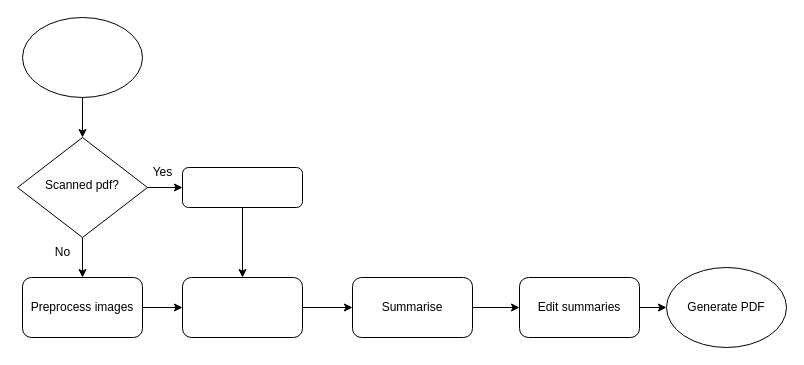
This 804x365 diagram has some shape labels left out. The centre of each missing label's shape, as x and y in pixels:
"Convert to images" belongs at (x=242, y=187).
"Extraction using OCR" belongs at (x=242, y=307).
"Input PDF" belongs at (x=82, y=57).
